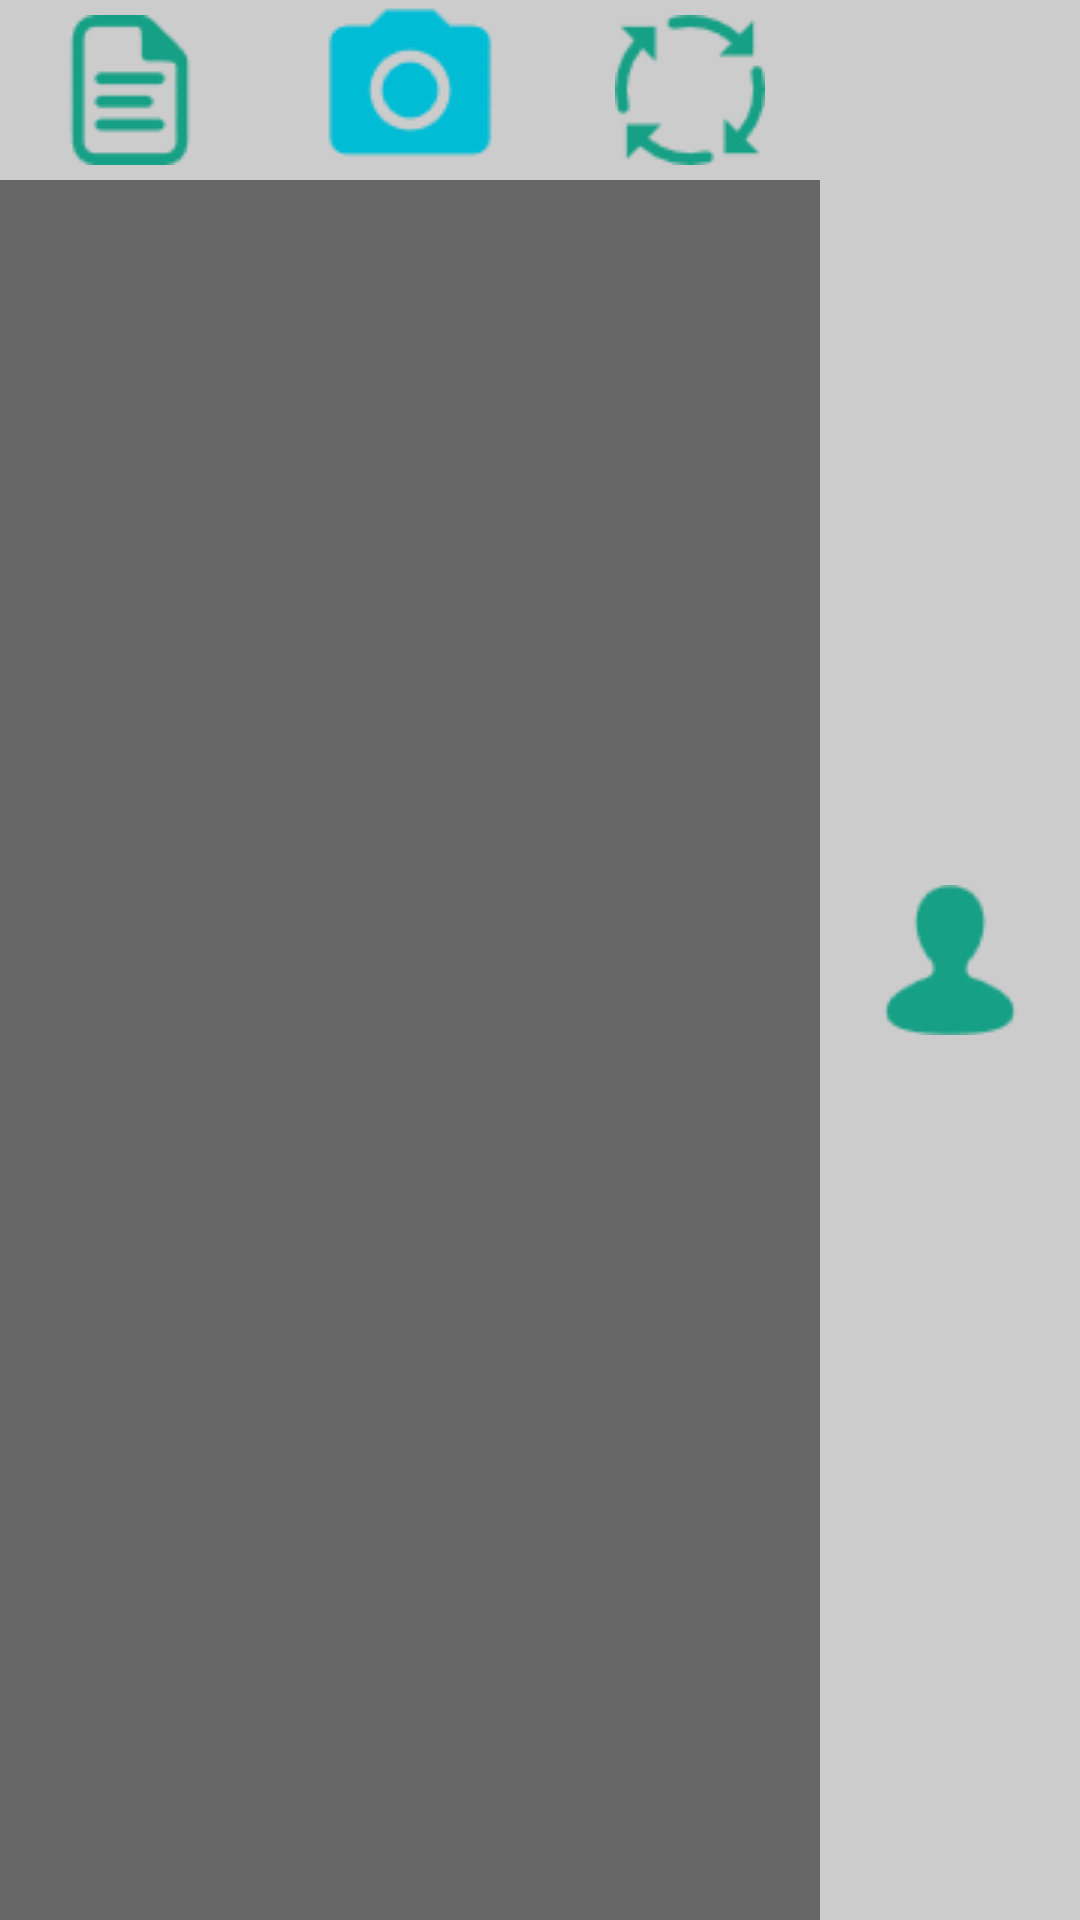

Locate icon controls on the screen. Image size 1080×1920, boxes as (x1, y1, x2, y2).
camera: (328, 8, 492, 157)
documents: (70, 15, 190, 165)
process: (615, 15, 765, 165)
